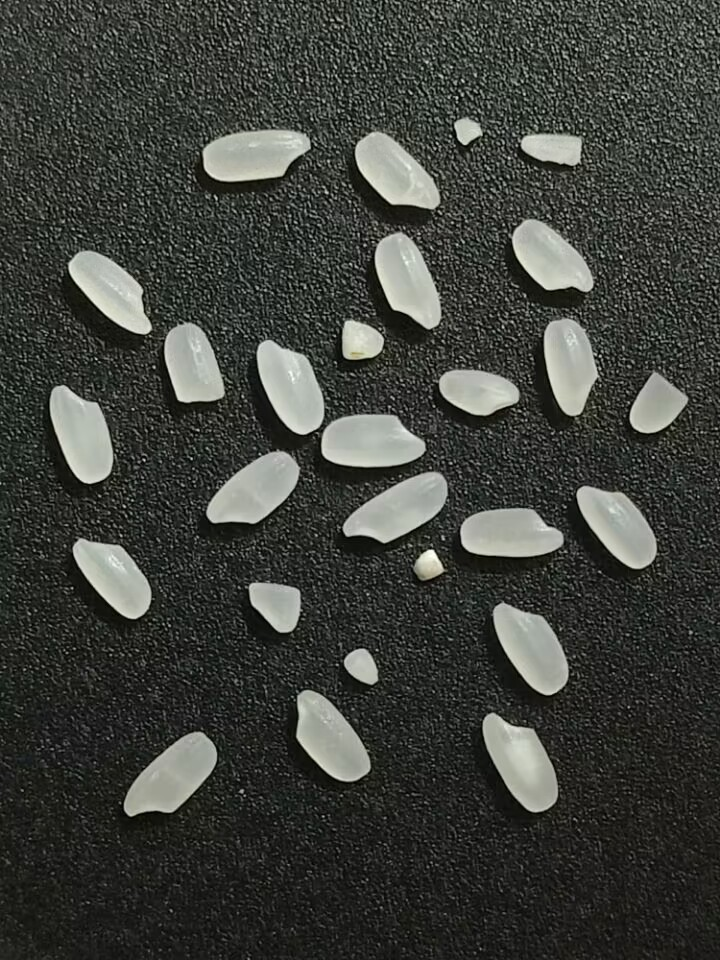broken: (164, 322, 226, 406), (624, 369, 689, 435), (247, 579, 302, 635), (518, 131, 590, 167), (339, 318, 384, 360), (343, 647, 378, 685), (452, 114, 485, 149), (412, 549, 445, 582)
rice: (122, 730, 219, 819), (351, 129, 445, 214), (66, 248, 154, 338), (342, 470, 450, 543), (202, 448, 301, 527), (252, 338, 328, 438), (68, 535, 155, 622), (482, 713, 558, 812), (491, 600, 569, 696), (575, 483, 659, 572), (295, 689, 371, 782), (48, 381, 115, 486), (508, 217, 596, 296), (373, 231, 443, 330), (200, 127, 313, 183), (542, 317, 601, 421), (320, 413, 427, 468), (459, 507, 564, 558), (438, 369, 520, 416)
